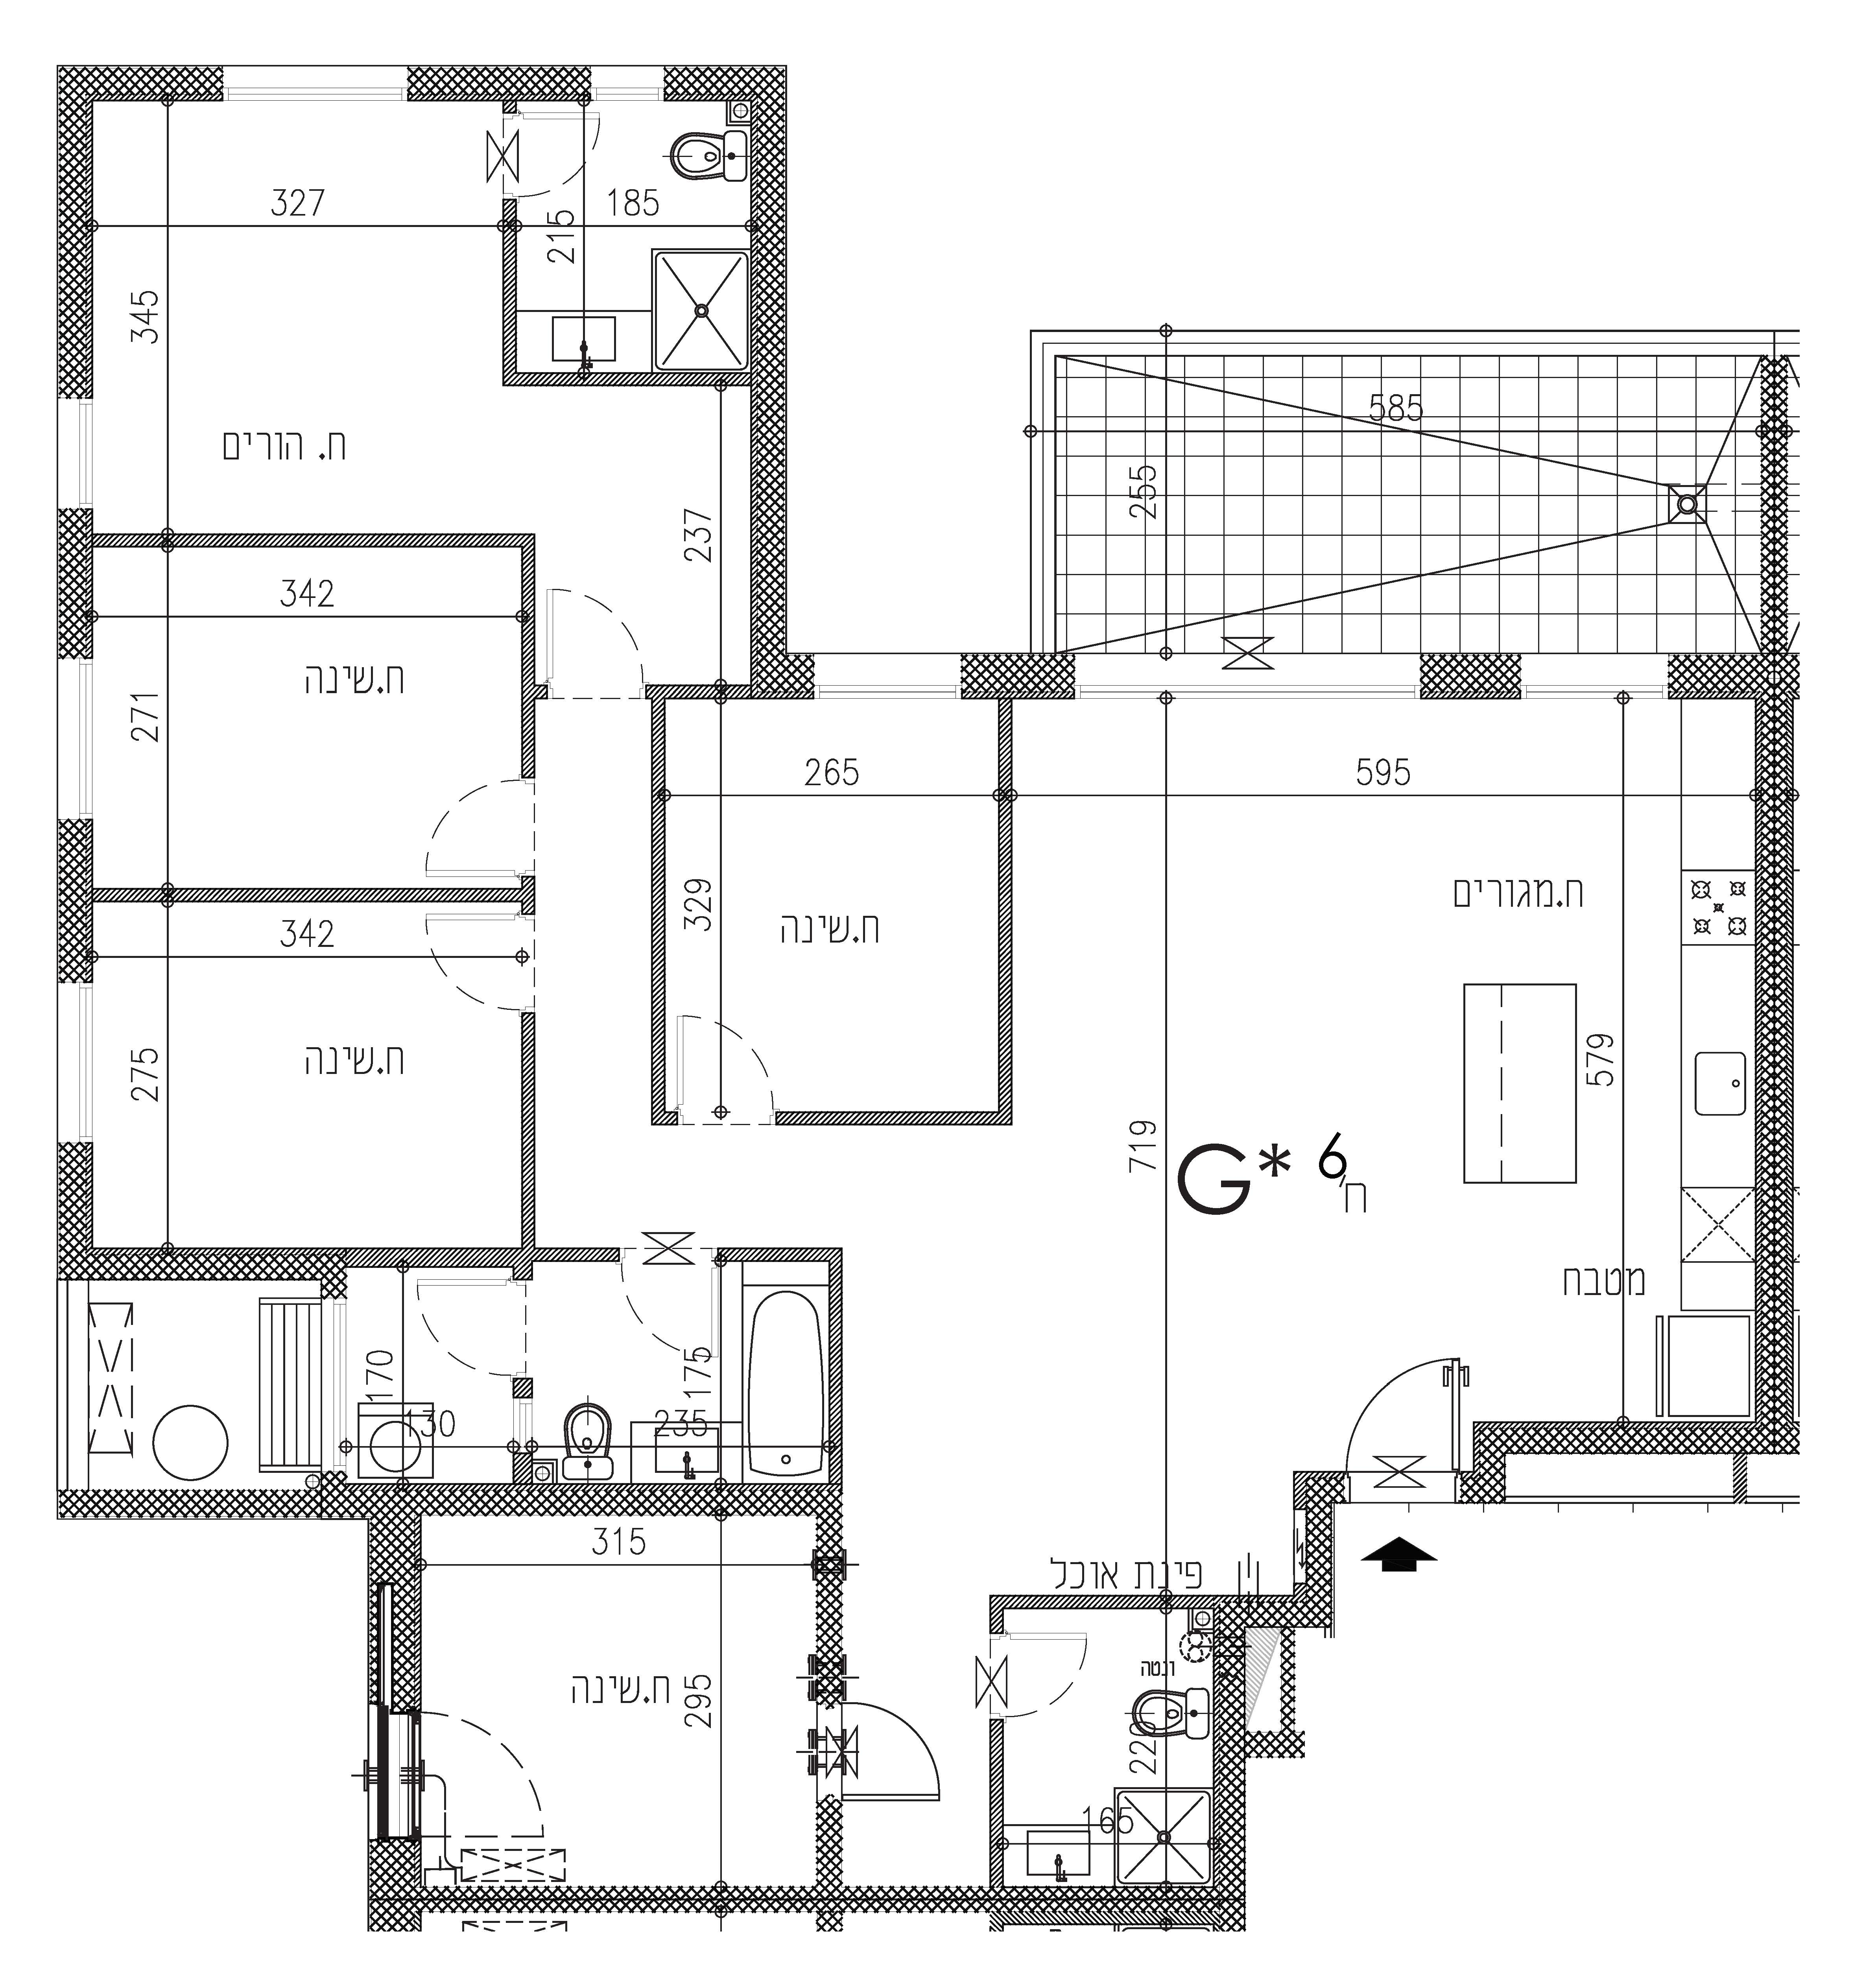wall: (1754, 682, 1793, 1449), (751, 72, 790, 682), (60, 1492, 850, 1518), (58, 65, 88, 402), (60, 820, 93, 980)
